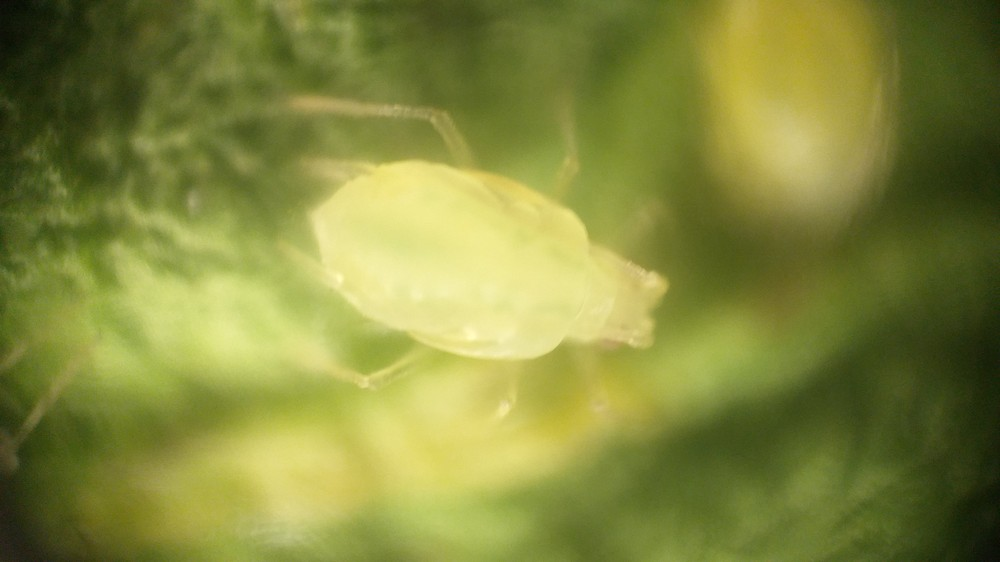Pulgon: (234, 69, 714, 468)
